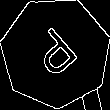P_SE: (25, 21, 86, 84)
